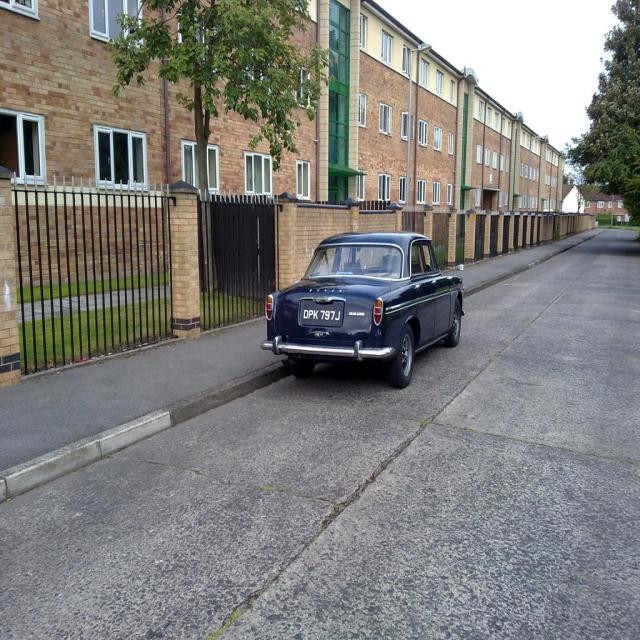car: (257, 228, 464, 391)
